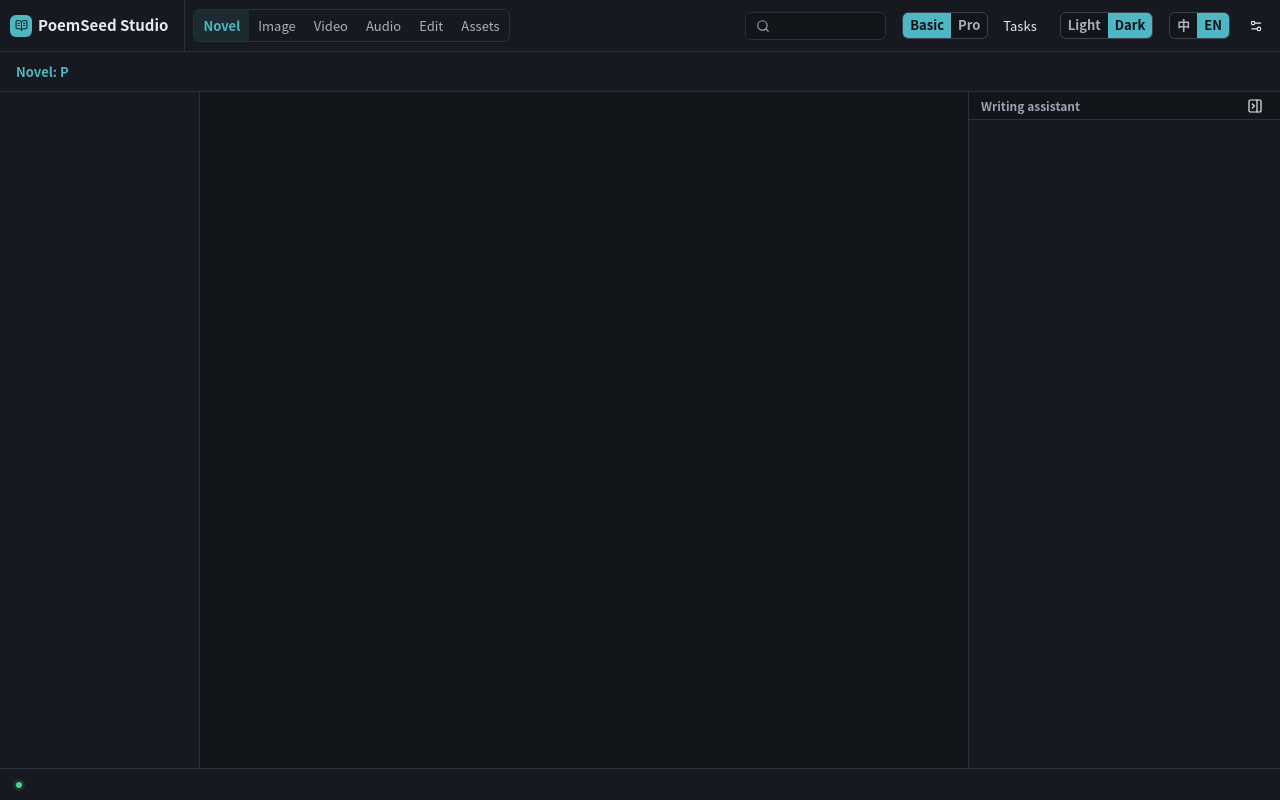
Test: shell under en › Ctrl-K palette is English under en
Press k
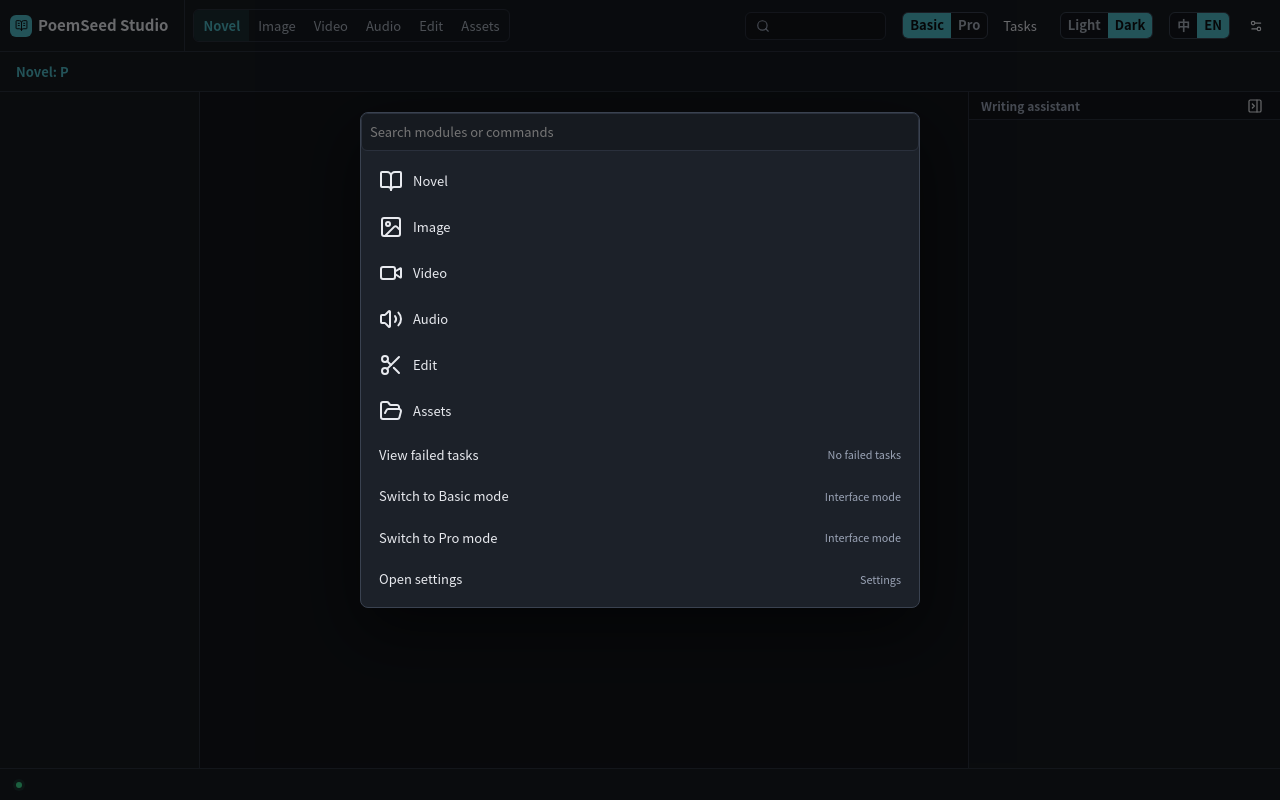
Type "zzzz" into the field with placeholder "Search modules or commands" at (640, 132), box [361,113,919,150]
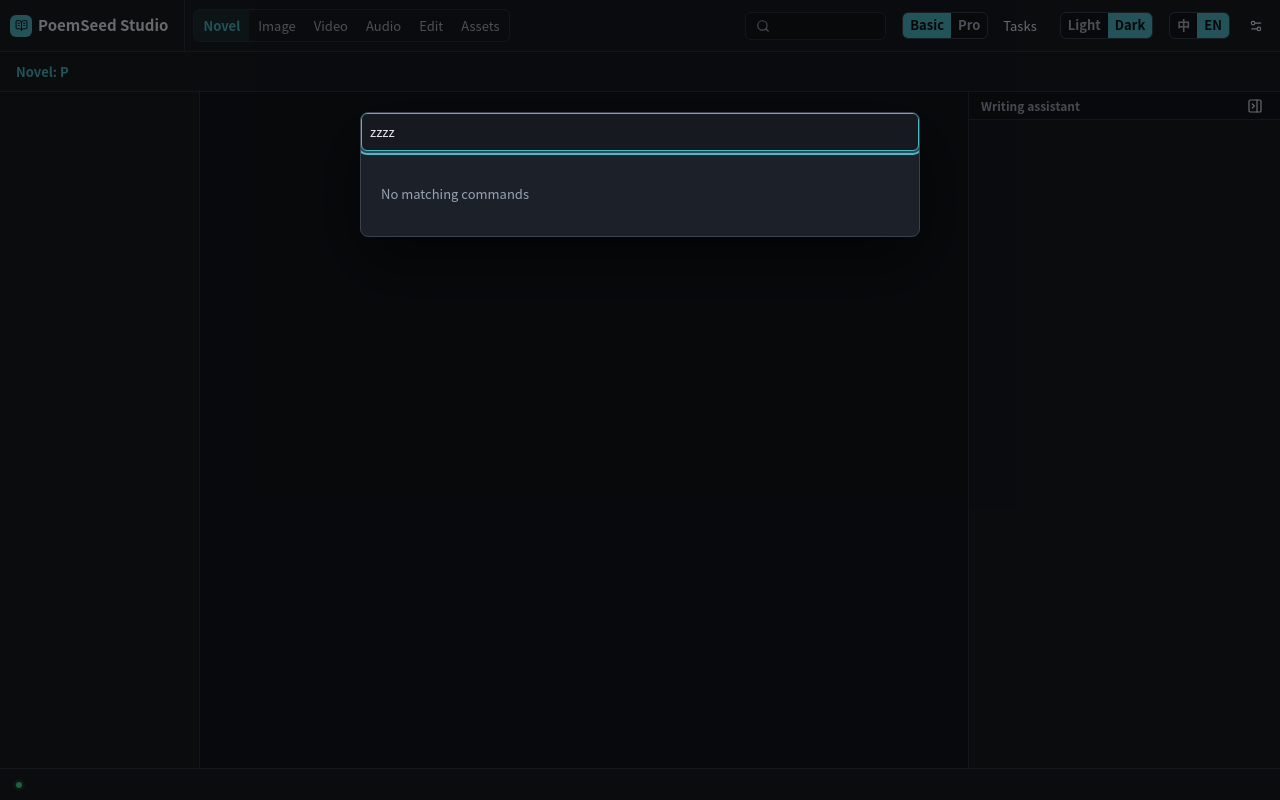
expect the dialog named "Global commands" reads "No matching commands": met, box [381,184,529,202]
